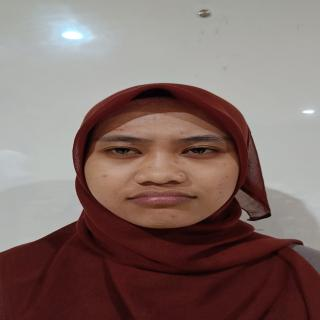Sedih: (71, 95, 249, 240)
